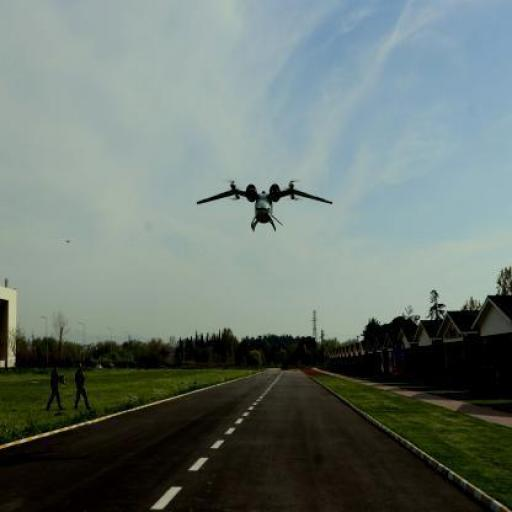aircraft: (196, 180, 333, 232)
